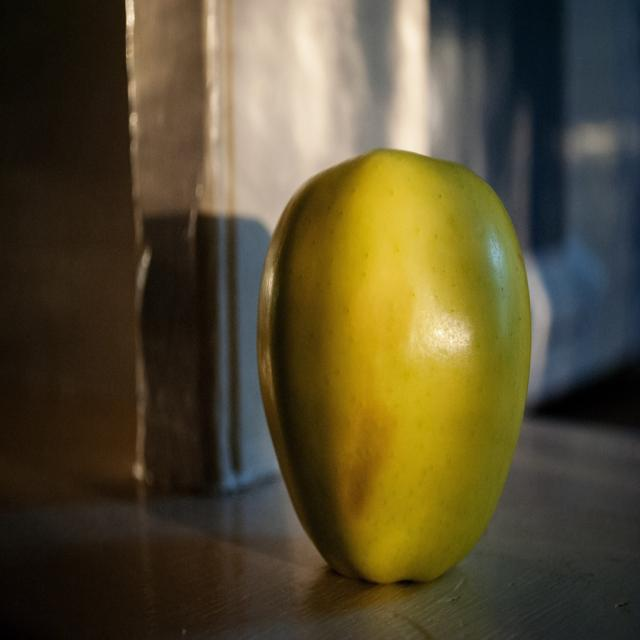Apple: (249, 153, 545, 582)
